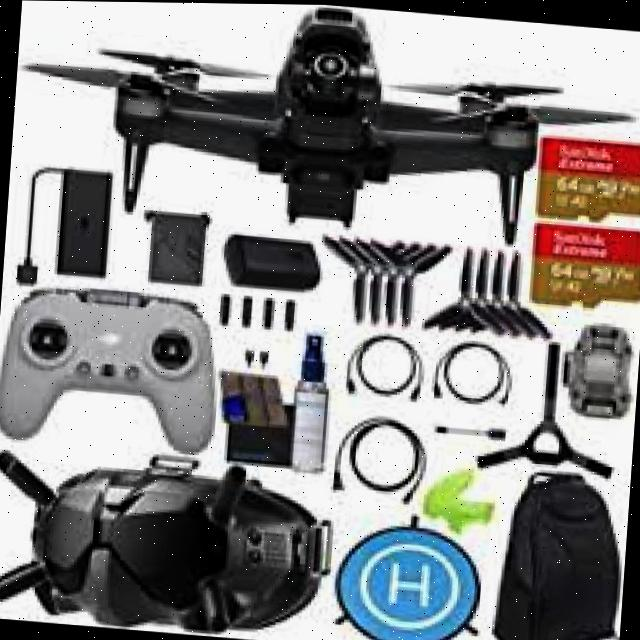drone: (9, 0, 640, 291)
